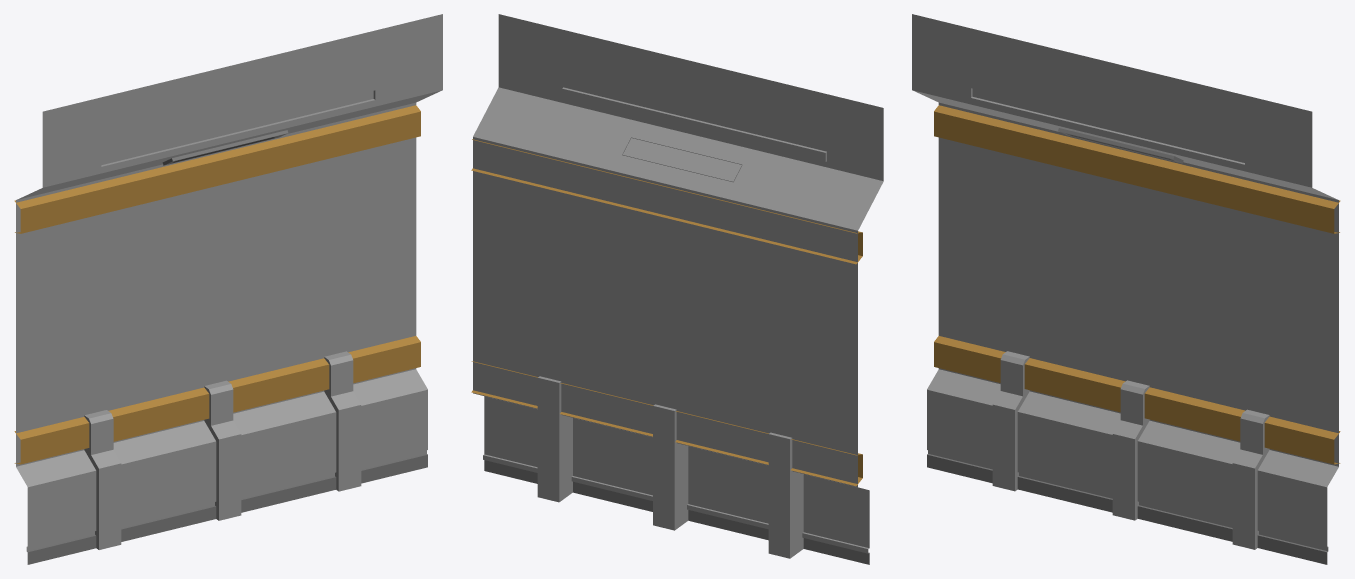
Rendered from Wall_Empty.glb.
The picture shows the model from 3 angles, left to right: view 1: azimuth 30°, elevation 25°; view 2: azimuth 150°, elevation 25°; view 3: azimuth 330°, elevation 25°; orthographic projection. The views are drawn at different scales.
Parts seen in each view (by area): view 1: Wall_Empty; view 2: Wall_Empty; view 3: Wall_Empty.
Boxes of the visible parts, bbox=[...] form: Wall_Empty: bbox=[14, 14, 442, 564]; Wall_Empty: bbox=[471, 14, 883, 564]; Wall_Empty: bbox=[912, 14, 1340, 564].
Size of the model in its own units: 1.36 by 1.51 by 0.1697.
